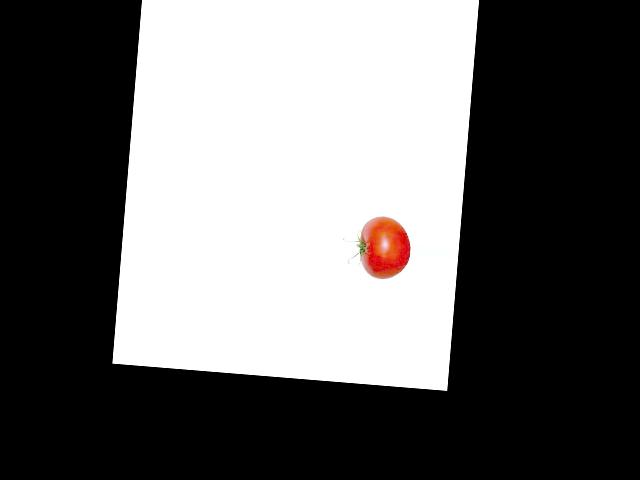tomato: (356, 214, 413, 280)
